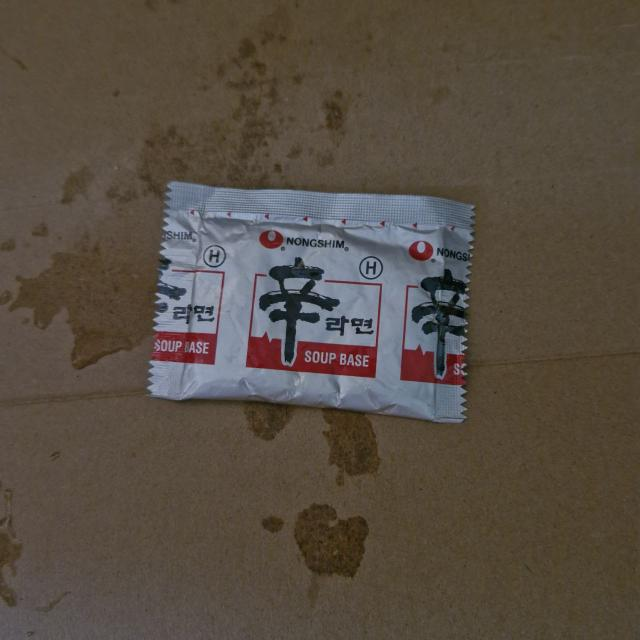plastic: (144, 185, 480, 423)
